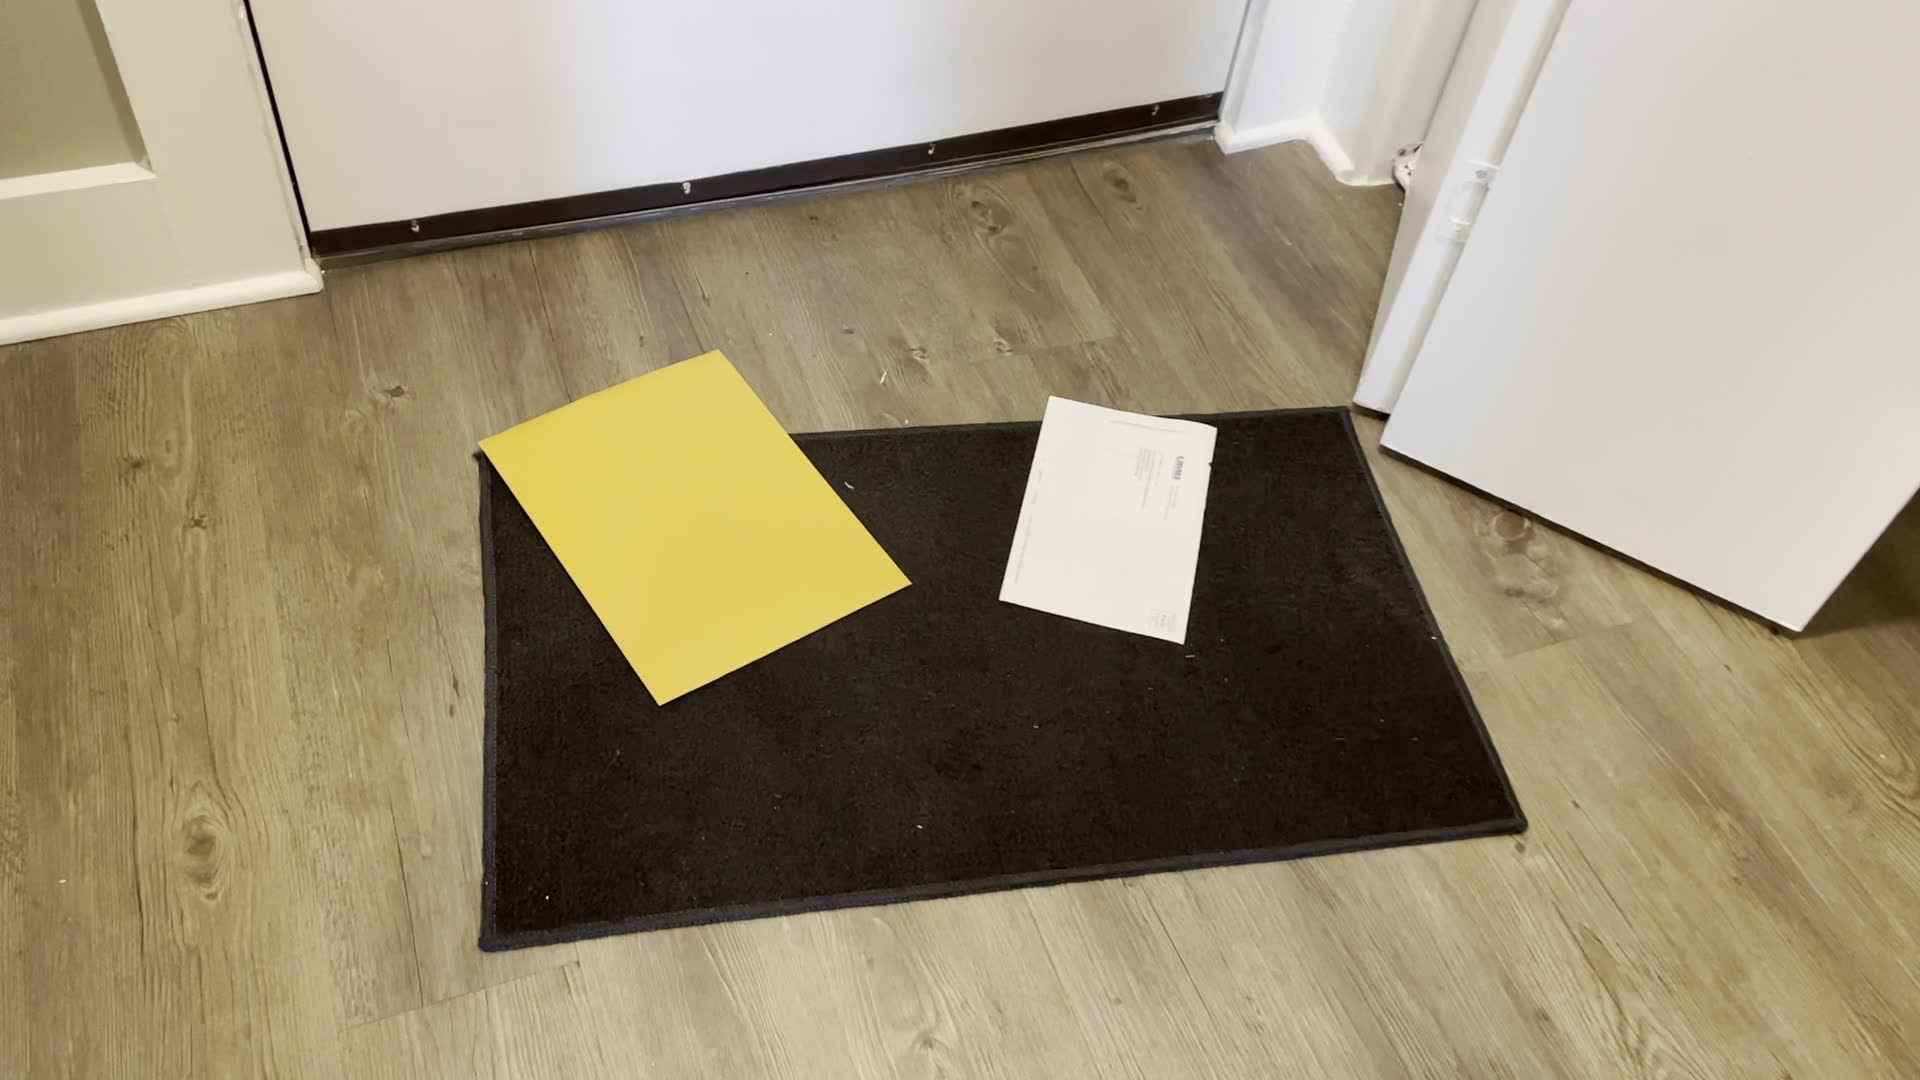envelope: (473, 349, 913, 705), (992, 392, 1232, 649)
